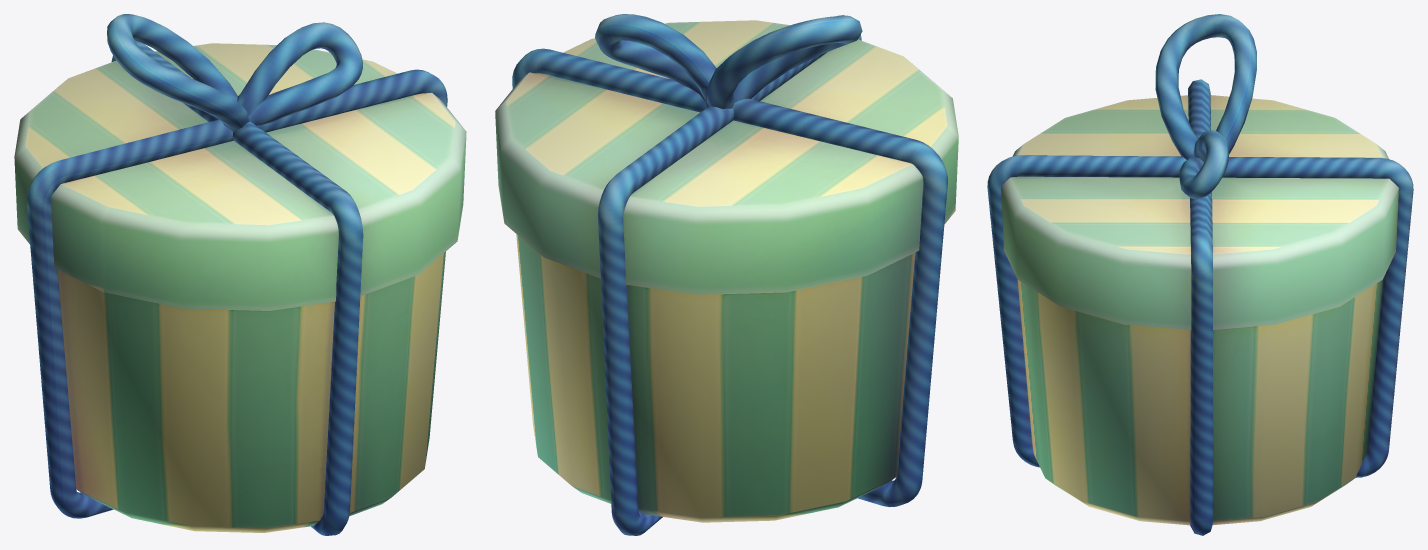
File: SE_Present_04.fbx
3 views of the same model, side by side, from view 1: azimuth 30°, elevation 25°; view 2: azimuth 150°, elevation 25°; view 3: azimuth 270°, elevation 25° (orthographic). The views are drawn at different scales.
Parts seen in each view (by area): view 1: SE_Present_04; view 2: SE_Present_04; view 3: SE_Present_04.
Boxes of the visible parts, <box> form: SE_Present_04: <box>14,14,466,535</box>; SE_Present_04: <box>495,14,958,535</box>; SE_Present_04: <box>987,14,1413,535</box>.
Size of the model in its own units: 2.09 by 2.24 by 2.09.
